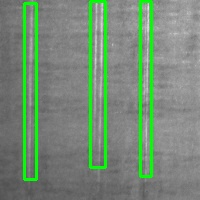scratches: (90, 1, 105, 167), (24, 3, 36, 179), (140, 1, 151, 176)
